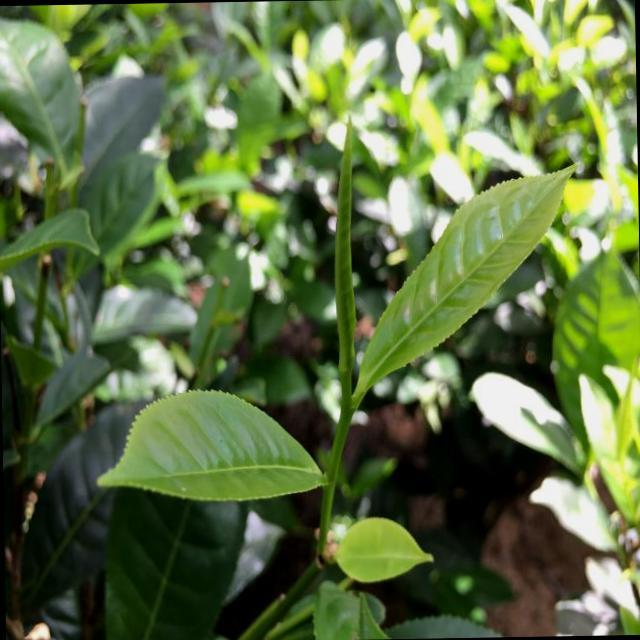Stem: (338, 408, 357, 427)
